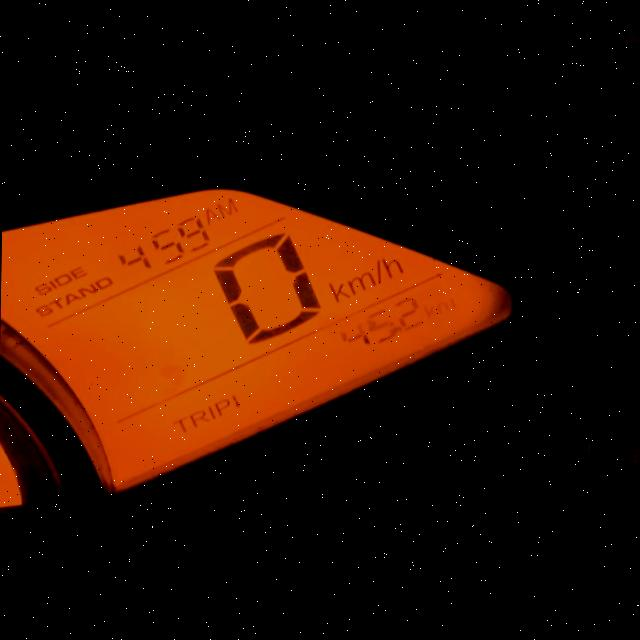odometer: (0, 180, 520, 504)
